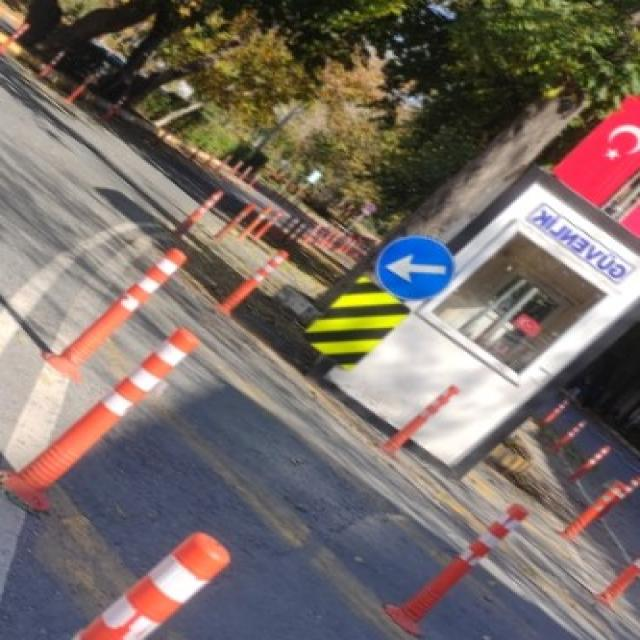Turn Left: (375, 236, 457, 303)
